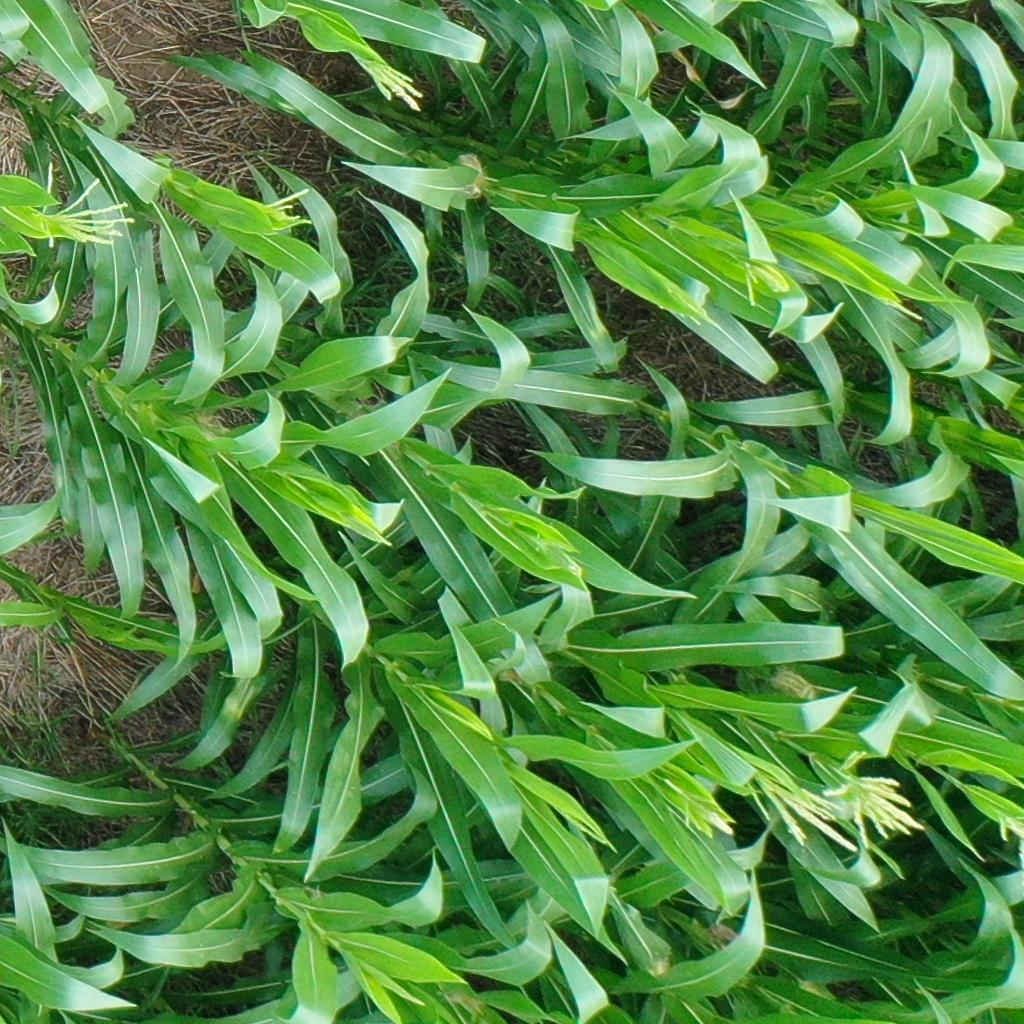Tassel: (744, 766, 857, 859), (35, 154, 136, 250), (823, 767, 924, 850), (353, 49, 424, 108), (672, 785, 735, 843), (734, 251, 788, 307), (261, 179, 316, 229), (990, 804, 1024, 844)
